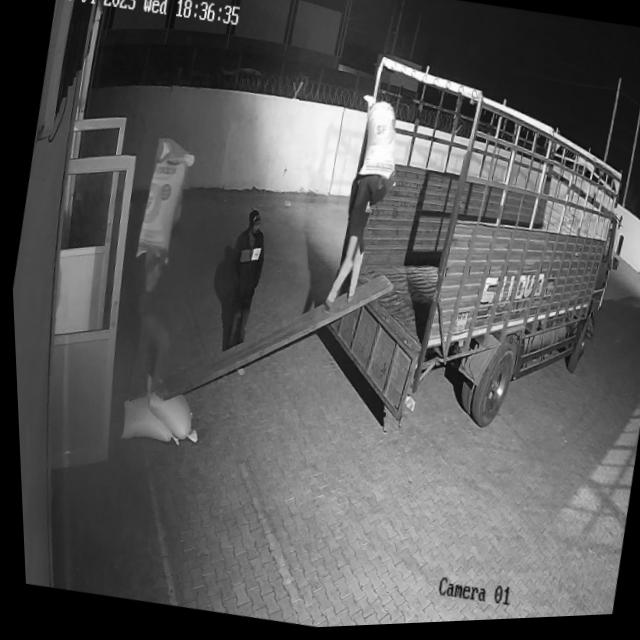sack: (128, 135, 199, 267), (132, 373, 204, 446), (348, 96, 406, 186), (111, 390, 181, 449)
